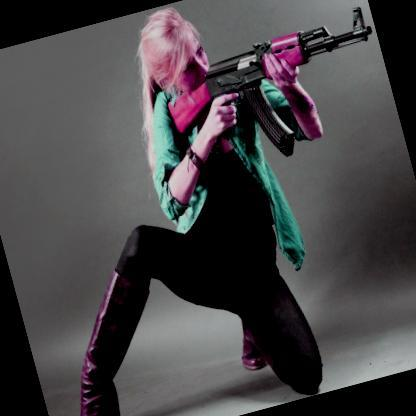rifle: (156, 7, 399, 183)
